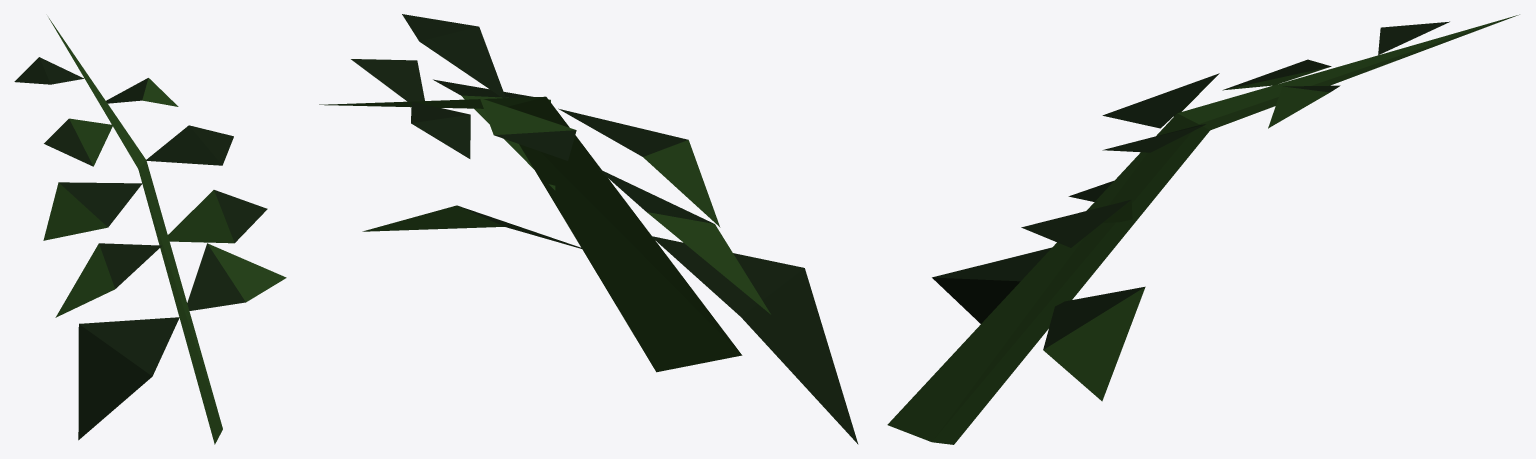
The model's file is Flower_M2_4.fbx.
3 renders of one model, left to right at view 1: azimuth 30°, elevation 25°; view 2: azimuth 150°, elevation 25°; view 3: azimuth 270°, elevation 25°, orthographic. The views are drawn at different scales.
Parts seen in each view (by area): view 1: Flower_M2_4; view 2: Flower_M2_4; view 3: Flower_M2_4.
Part boxes in pixels (x1,y1,x2,y2): Flower_M2_4: (14,17,286,444); Flower_M2_4: (319,14,858,444); Flower_M2_4: (887,14,1519,444).
Size of the model in its own units: 45.04 by 49.5 by 65.29.
